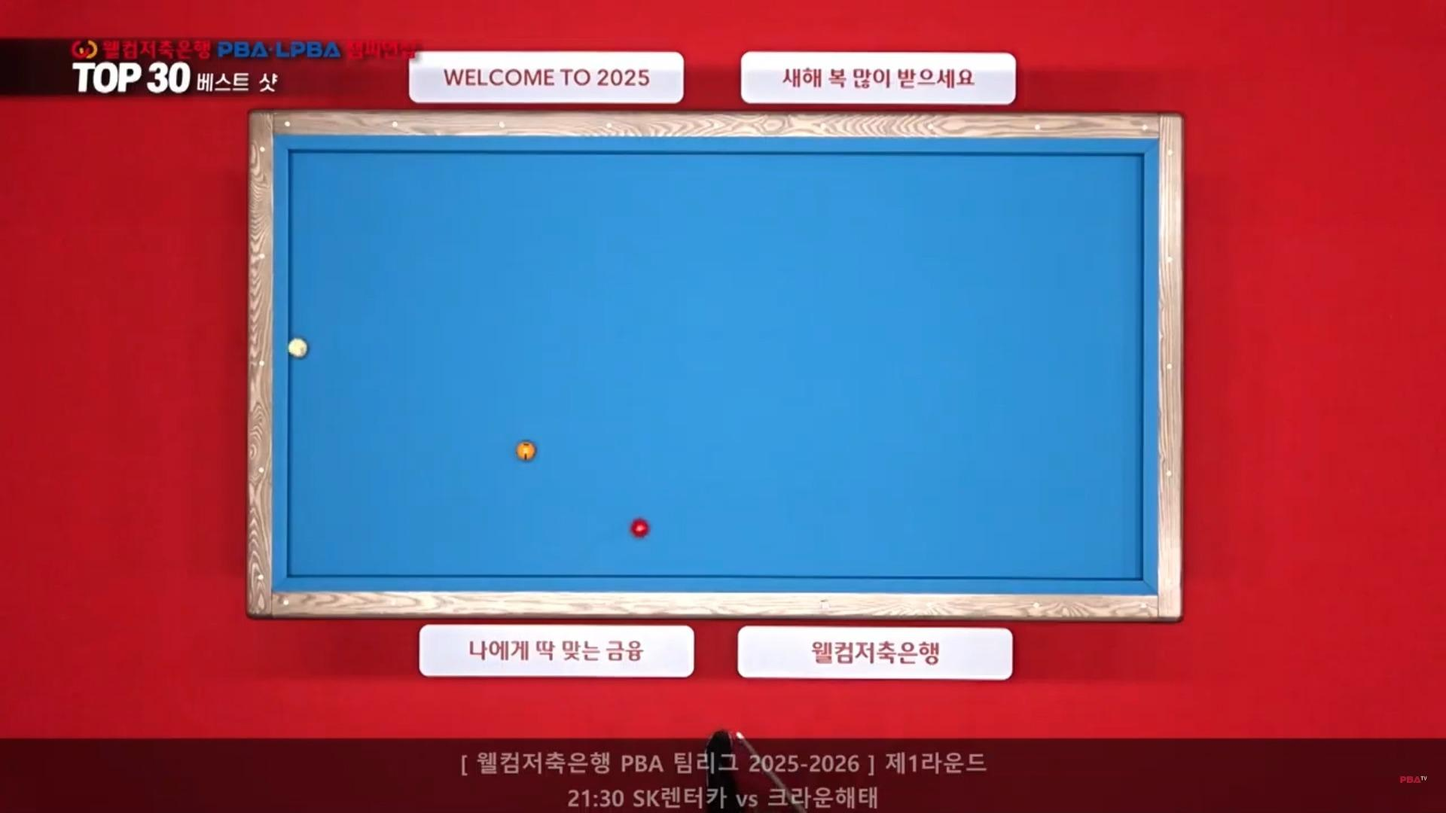Red: (630, 521, 653, 539)
White: (288, 340, 313, 360)
billiard-ball-Yellow: (516, 439, 539, 462)
